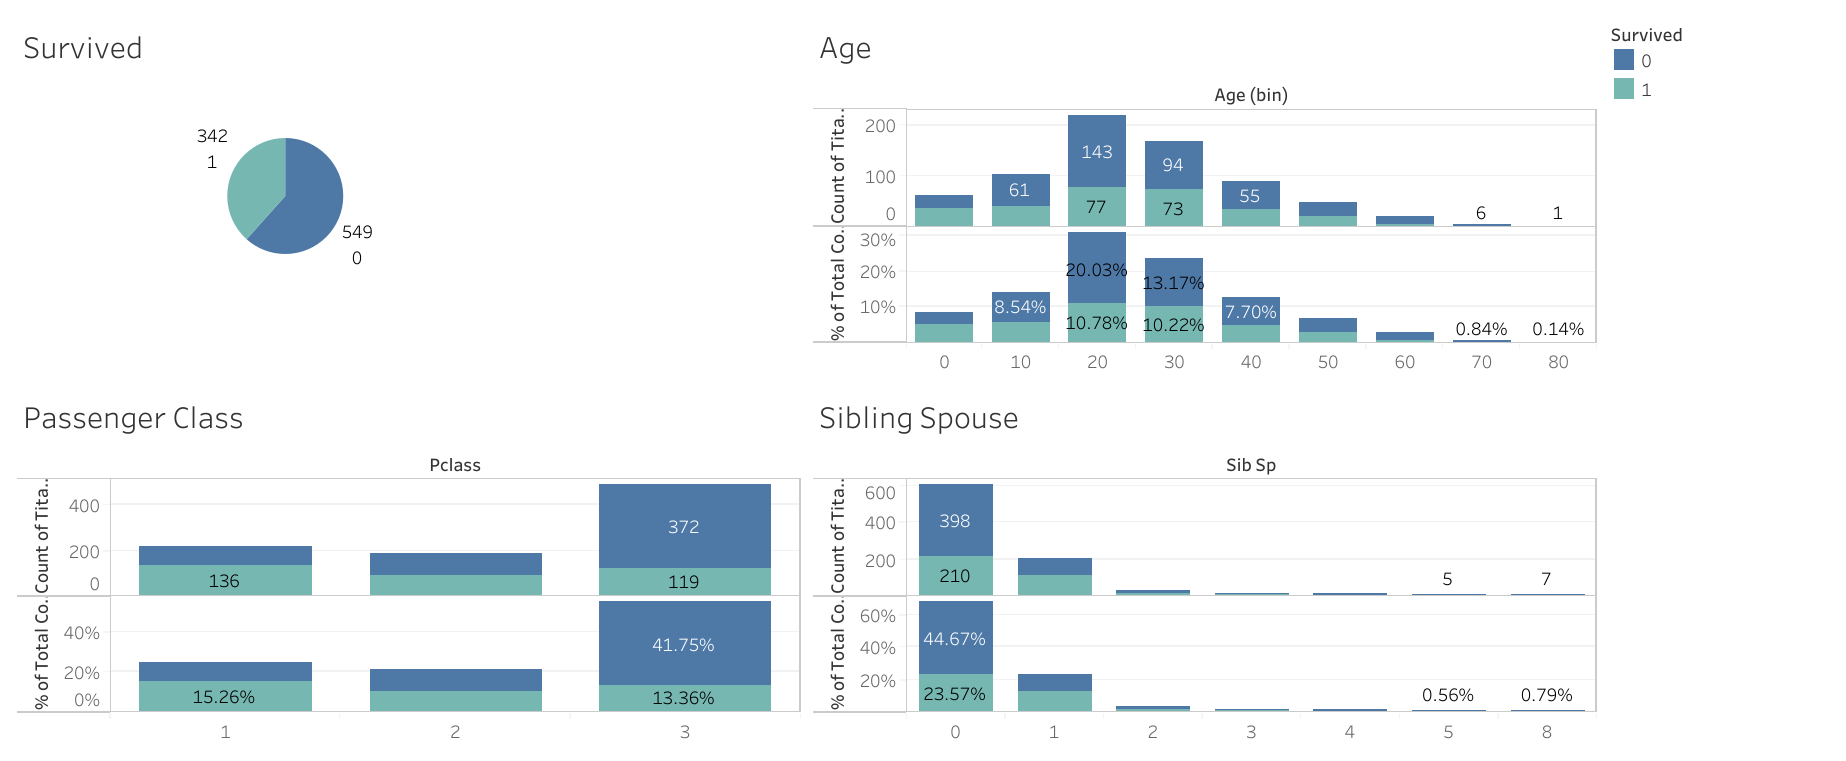

The page's visual inventory and layout, read from the dashboard file:
{"tool":"tableau","page":{"name":"Dashboard 1","canvas":[1000,1000],"units":"permille","ordinal":0},"visuals":[{"type":"worksheet","box":[0,0,1000,1000]},{"type":"worksheet","param":"horz","box":[5,9.8,990,980.4]},{"type":"worksheet","box":[5,9.8,890.3,980.4]},{"type":"worksheet","title":"Survived","mark":"Pie","box":[5,9.8,445.1,490.2]},{"type":"worksheet","title":"Age","mark":"Automatic","rows":["Titanic Train Data.csv_33508E12FD9D4BF68CD158285B97F1E3","Titanic Train Data.csv_33508E12FD9D4BF68CD158285B97F1E3"],"cols":["Age (bin)"],"box":[450.1,9.8,445.1,490.2]},{"type":"worksheet","param":"vert","box":[895.3,9.8,99.8,980.4]},{"type":"worksheet","title":"Age","mark":"Automatic","rows":["Titanic Train Data.csv_33508E12FD9D4BF68CD158285B97F1E3","Titanic Train Data.csv_33508E12FD9D4BF68CD158285B97F1E3"],"cols":["Age (bin)"],"param":"[federated.093nc091n9xh4j1euigjv1944n6y].[none:Survived:ok]","box":[895.3,9.8,99.8,102.7]},{"type":"worksheet","title":"Passenger Class","mark":"Automatic","rows":["Titanic Train Data.csv_33508E12FD9D4BF68CD158285B97F1E3","Titanic Train Data.csv_33508E12FD9D4BF68CD158285B97F1E3"],"cols":["Pclass"],"box":[5,500,445.1,490.2]},{"type":"worksheet","title":"Sibling Spouse","mark":"Automatic","rows":["Titanic Train Data.csv_33508E12FD9D4BF68CD158285B97F1E3","Titanic Train Data.csv_33508E12FD9D4BF68CD158285B97F1E3"],"cols":["SibSp"],"box":[450.1,500,445.1,490.2]}]}

Visuals, with their boxes on the dashboard's canvas, which has no fixed pixel size, in thousandths of its width and height (x1, y1, x2, y2). These are canvas units, not pixel positions in the 1846x761 screenshot, which may show the page scaled, cropped or inside an application window:
worksheet: Rect(0, 0, 1000, 1000)
worksheet: Rect(5, 10, 995, 990)
worksheet: Rect(5, 10, 895, 990)
"Survived" worksheet (Pie marks): Rect(5, 10, 450, 500)
"Age" worksheet: Rect(450, 10, 895, 500)
worksheet: Rect(895, 10, 995, 990)
"Age" worksheet: Rect(895, 10, 995, 112)
"Passenger Class" worksheet: Rect(5, 500, 450, 990)
"Sibling Spouse" worksheet: Rect(450, 500, 895, 990)
